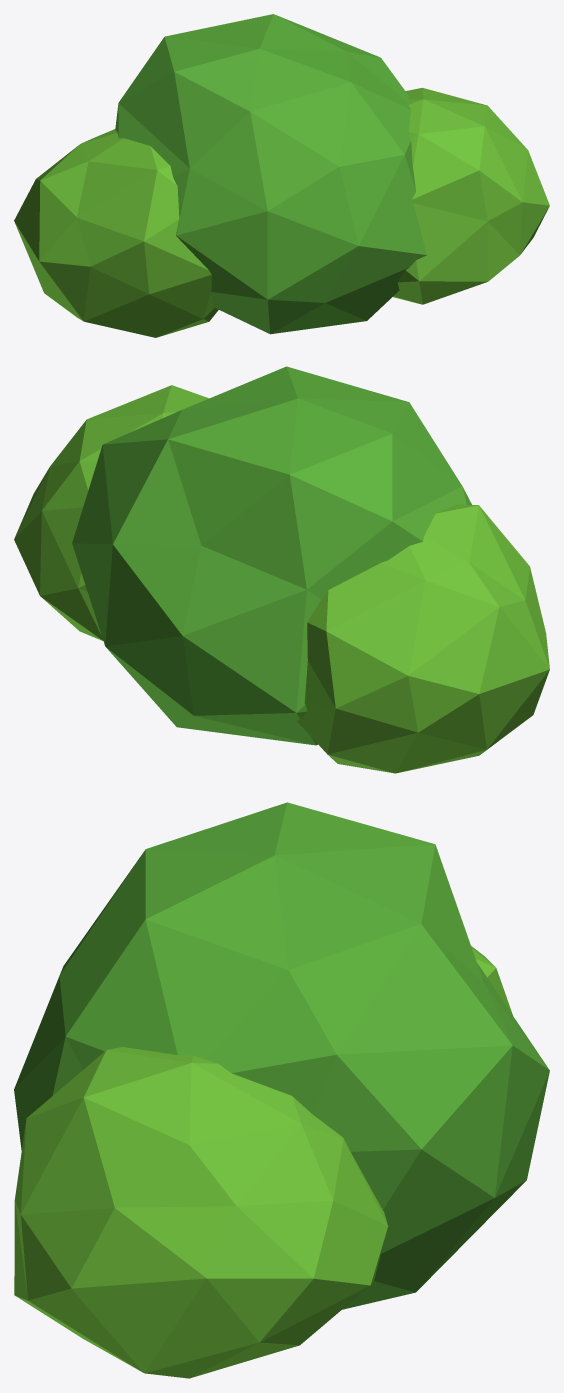
The model's file is arbusto.glb.
3 views of the same model, one above another, from view 1: azimuth 30°, elevation 25°; view 2: azimuth 150°, elevation 25°; view 3: azimuth 270°, elevation 25° (orthographic). The views are drawn at different scales.
Visible parts, largest first — view 1: bola_1, bola_3, bola_2; view 2: bola_1, bola_3, bola_2; view 3: bola_1, bola_2.
Boxes of the visible parts, x1,y1,x2,y2 form: bola_1: [115, 14, 426, 334]; bola_3: [14, 129, 218, 337]; bola_2: [393, 87, 549, 304]; bola_1: [72, 366, 471, 745]; bola_3: [297, 504, 549, 773]; bola_2: [14, 385, 208, 640]; bola_1: [14, 802, 549, 1309]; bola_2: [14, 1047, 388, 1378].
Size of the model in its own units: 2.1 by 1.22 by 1.36.
